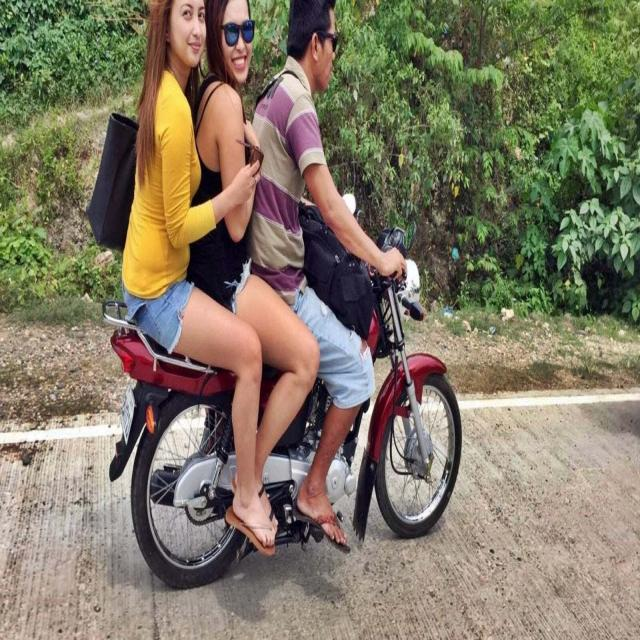Not Wearing Helmet: (292, 0, 356, 124)
Triple Riding: (112, 0, 479, 492)
